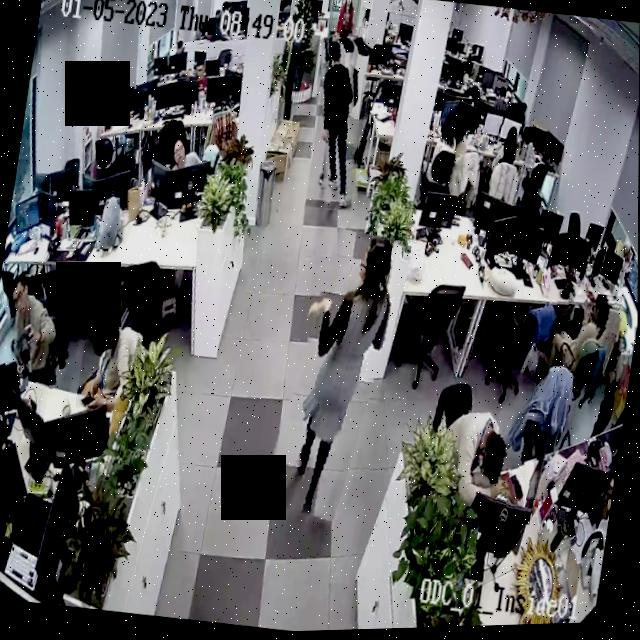person: (268, 227, 404, 528), (436, 406, 547, 531), (305, 36, 376, 214), (538, 291, 623, 410), (0, 270, 70, 390), (76, 305, 147, 415), (468, 417, 514, 493), (487, 127, 528, 210), (447, 129, 487, 205), (331, 0, 359, 70), (189, 59, 211, 102)
